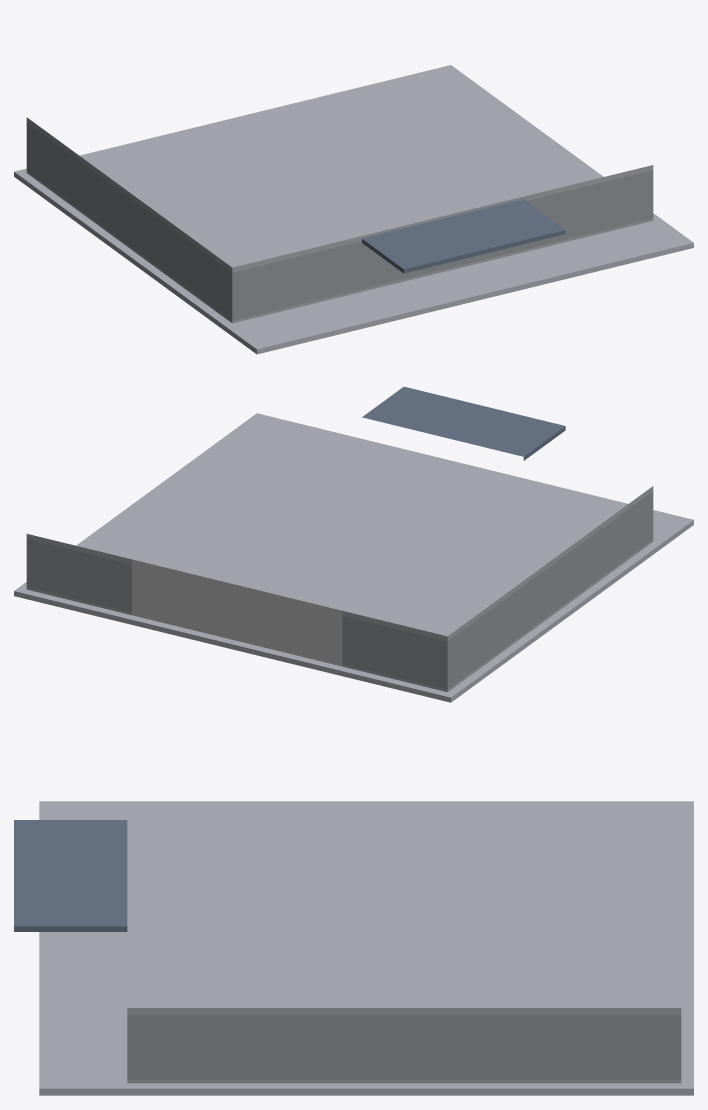
The model's file is office-lobby.flat-v1.lod2.glb.
3 views of the same model, one above another, from view 1: azimuth 30°, elevation 25°; view 2: azimuth 150°, elevation 25°; view 3: azimuth 270°, elevation 25° (orthographic). The views are drawn at different scales.
Parts seen in each view (by area): view 1: office-lobby; view 2: office-lobby; view 3: office-lobby.
Part boxes in pixels (box(x1,y1,x2,y2)): office-lobby: box(14, 65, 693, 354); office-lobby: box(14, 386, 693, 702); office-lobby: box(14, 801, 693, 1095).
Bounding box in the file's own units: 27 × 3.6 × 27.
